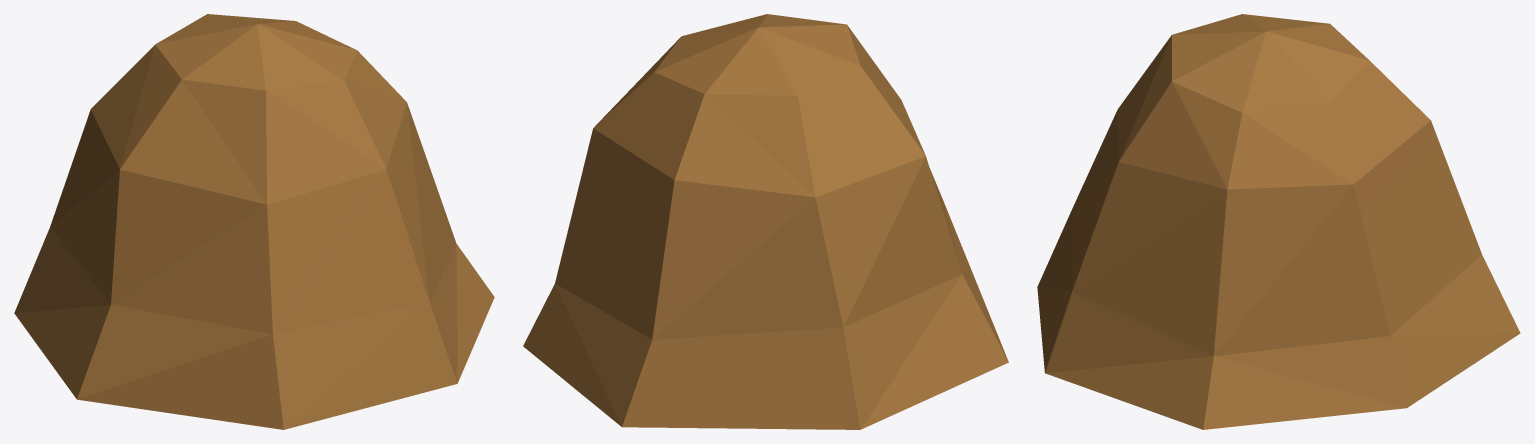
File: hay-pile.glb
3 views of the same model, side by side, from view 1: azimuth 30°, elevation 25°; view 2: azimuth 150°, elevation 25°; view 3: azimuth 270°, elevation 25° (orthographic). The views are drawn at different scales.
Visible parts, largest first — view 1: hay-pile; view 2: hay-pile; view 3: hay-pile.
Part boxes in pixels (x1=…): hay-pile: x1=14, y1=14, x2=494, y2=429; hay-pile: x1=523, y1=14, x2=1008, y2=429; hay-pile: x1=1037, y1=14, x2=1520, y2=429.
Bounding box in the file's own units: 2.43 × 1.67 × 2.44.
Materials: 1 (1 with a texture image).
